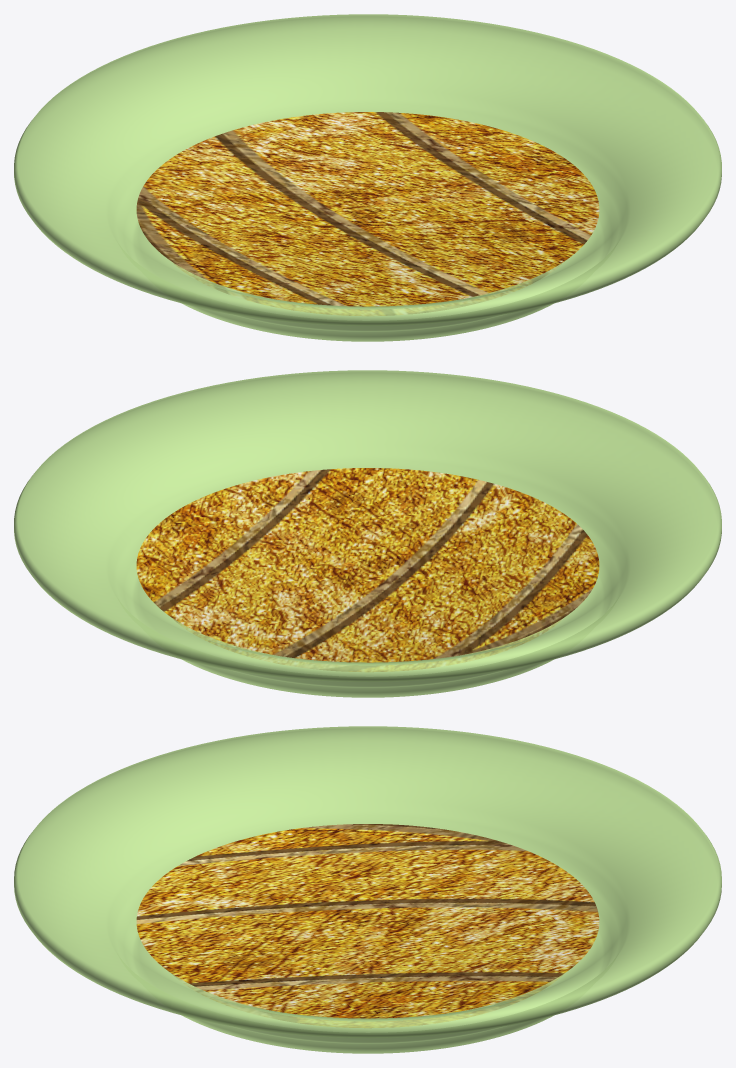
The picture shows the model from 3 angles, top to bottom: view 1: azimuth 30°, elevation 25°; view 2: azimuth 150°, elevation 25°; view 3: azimuth 270°, elevation 25°; orthographic projection.
Parts seen in each view (by area): view 1: Tarelka; view 2: Tarelka; view 3: Tarelka.
Boxes of the visible parts, x1,y1,x2,y2 form: Tarelka: (14, 14, 721, 341); Tarelka: (14, 370, 721, 697); Tarelka: (14, 726, 721, 1053).
Size of the model in its own units: 0.202 by 0.025 by 0.202.
